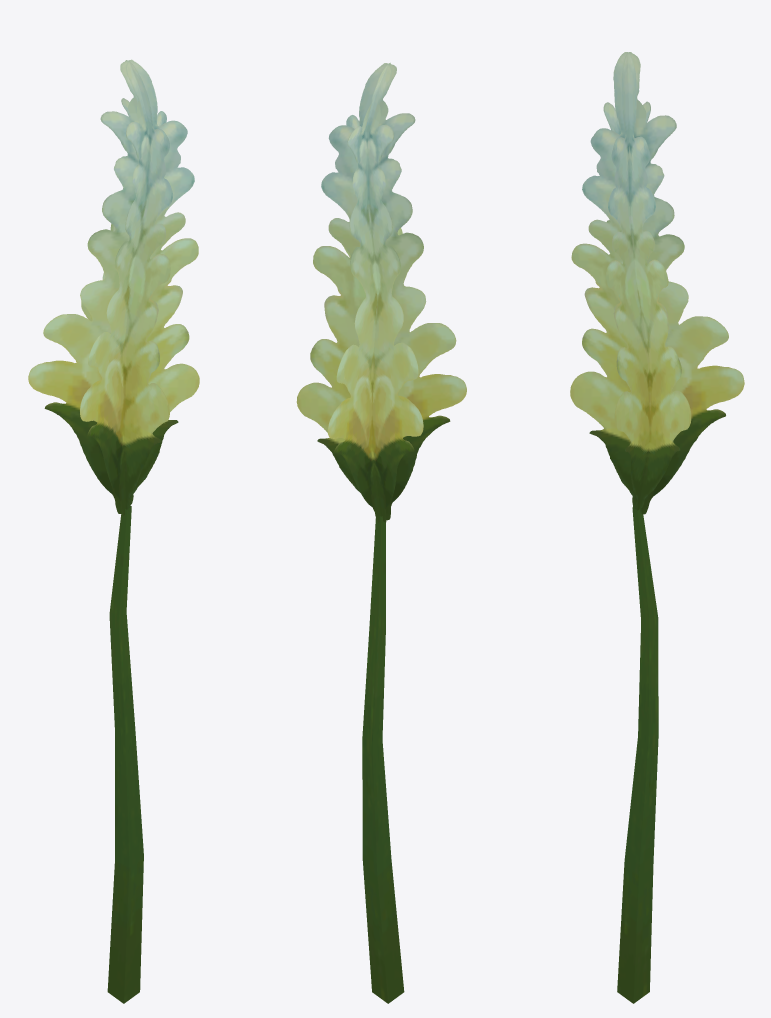
Rendered from Homeworld_General_Common_Thing_Prop_Irodori_MainFlower_12_Vo.fbx.
The picture shows the model from 3 angles, left to right: view 1: azimuth 30°, elevation 25°; view 2: azimuth 150°, elevation 25°; view 3: azimuth 270°, elevation 25°; orthographic projection.
Visible parts, largest first — view 1: Homeworld_General_Common_Thing_Prop_Irodori_MainFlower_12_Vo; view 2: Homeworld_General_Common_Thing_Prop_Irodori_MainFlower_12_Vo; view 3: Homeworld_General_Common_Thing_Prop_Irodori_MainFlower_12_Vo.
Boxes of the visible parts, x1,y1,x2,y2 form: Homeworld_General_Common_Thing_Prop_Irodori_MainFlower_12_Vo: [28, 59, 199, 1003]; Homeworld_General_Common_Thing_Prop_Irodori_MainFlower_12_Vo: [296, 62, 466, 1003]; Homeworld_General_Common_Thing_Prop_Irodori_MainFlower_12_Vo: [570, 52, 744, 1003].
Bounding box in the file's own units: 0.0847 × 0.4479 × 0.1051.
